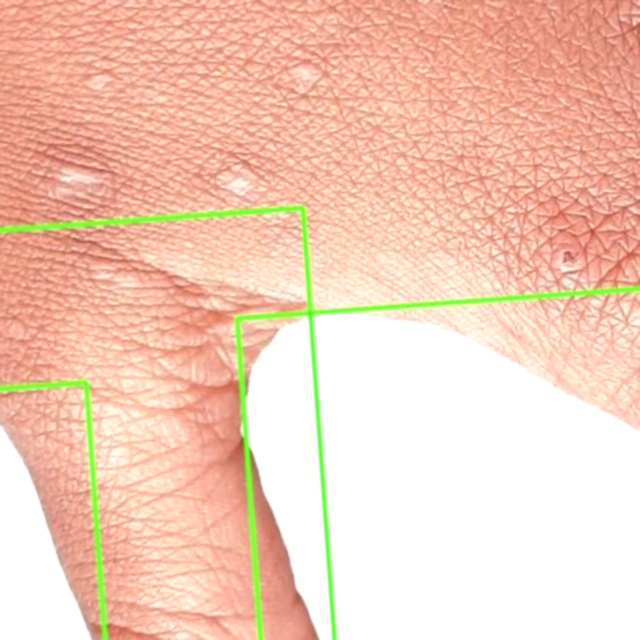Scabies: (0, 206, 334, 639), (237, 288, 639, 639), (0, 382, 105, 639)
